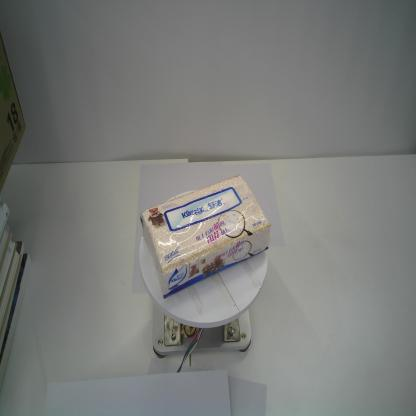Tissue: (135, 174, 269, 300)
